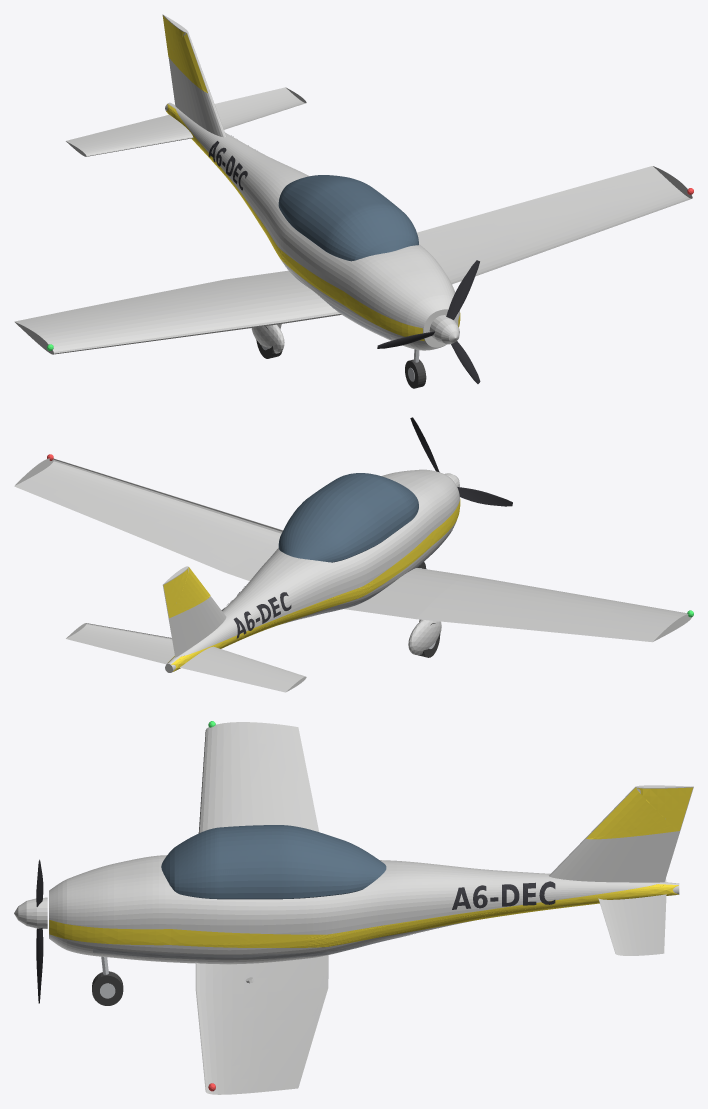
File: aircraft-2.glb
3 views of the same model, one above another, from view 1: azimuth 30°, elevation 25°; view 2: azimuth 150°, elevation 25°; view 3: azimuth 270°, elevation 25° (orthographic). The views are drawn at different scales.
Visible parts, largest first — view 1: body_white, body_glass, body_yellow, propeller_black, propeller_white, body_tyre; view 2: body_white, body_glass, body_yellow, propeller_black, body_black; view 3: body_white, body_glass, body_yellow, body_gray, body_black, propeller_white, body_tyre, propeller_black.
Boxes of the visible parts, x1,y1,x2,y2 form: body_white: (14, 14, 692, 354); body_glass: (278, 175, 418, 261); body_yellow: (162, 15, 460, 341); propeller_black: (377, 260, 480, 383); propeller_white: (429, 315, 459, 344); body_tyre: (256, 326, 426, 388); body_white: (14, 458, 691, 692); body_glass: (278, 473, 418, 562); body_yellow: (163, 499, 460, 671); propeller_black: (410, 417, 512, 506); body_black: (221, 586, 291, 638); body_white: (49, 722, 693, 1094); body_glass: (161, 825, 386, 899); body_yellow: (49, 787, 692, 947); body_gray: (93, 933, 415, 959); body_black: (452, 881, 555, 909); propeller_white: (14, 897, 47, 928); body_tyre: (92, 971, 123, 1005); propeller_black: (36, 859, 43, 1003).
Bounding box in the file's own units: 8.23 × 2.28 × 6.47.
